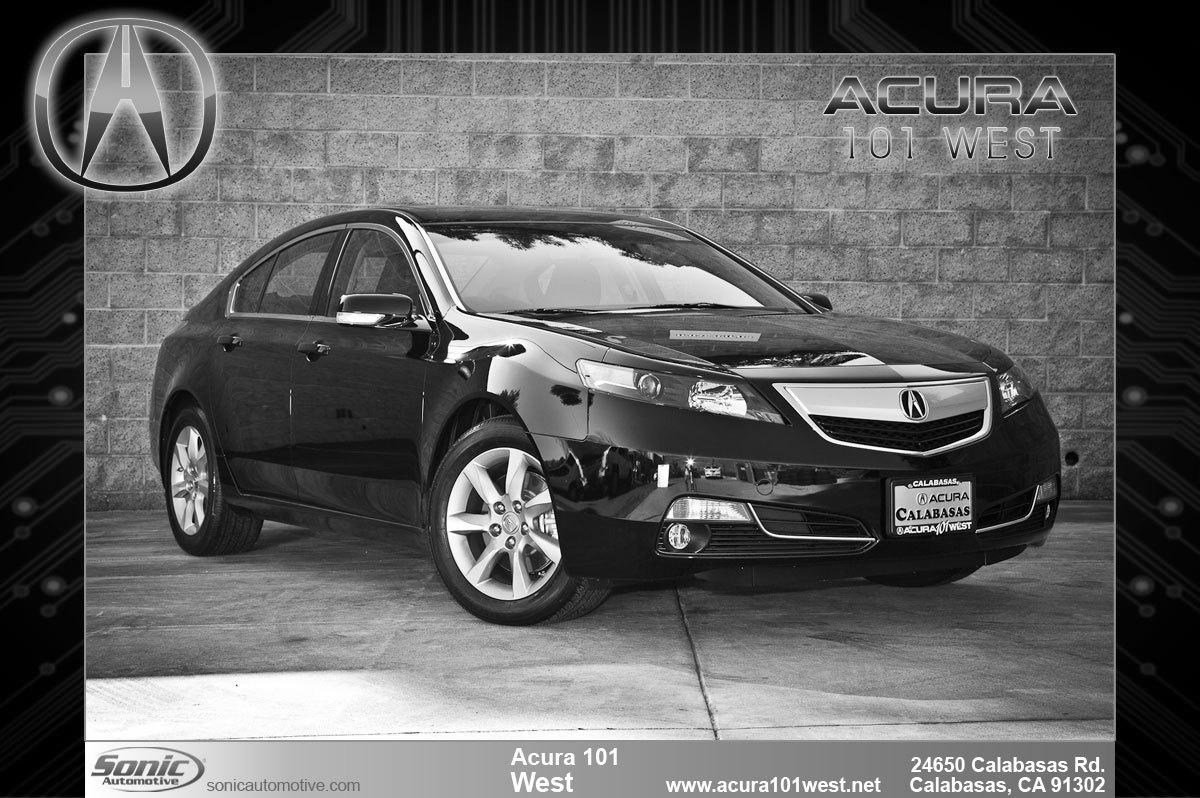car: (147, 202, 1066, 629)
